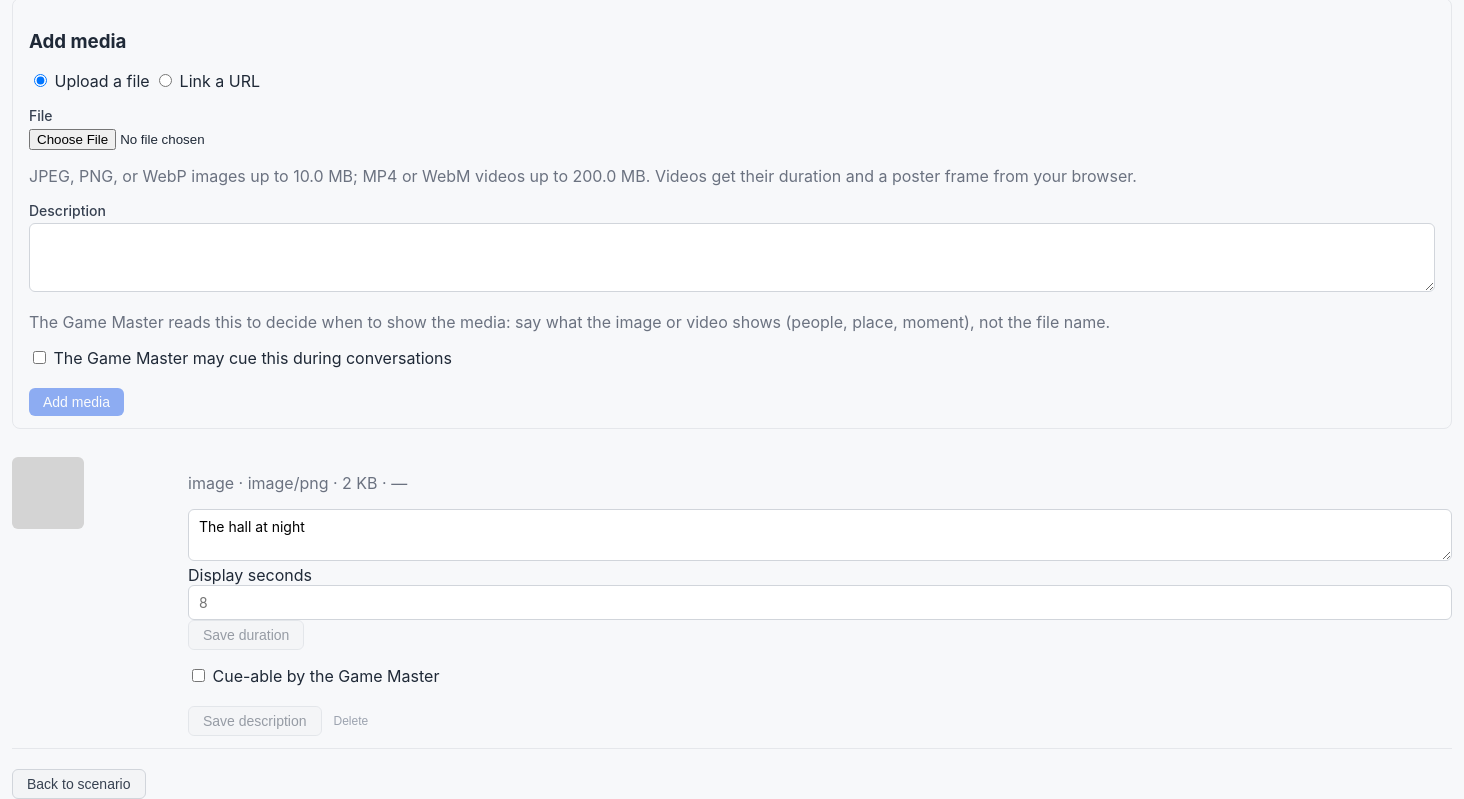
Test: media library › shows why a referenced asset cannot be deleted
This screenshot has width=1464, height=799.
(page scrolled)
Check: the list item with aria-label "The hall at night" is shown, box [12,445,1452,749]
Click the button "Delete" at (351, 721), box [330,706,372,736]
(page scrolled)
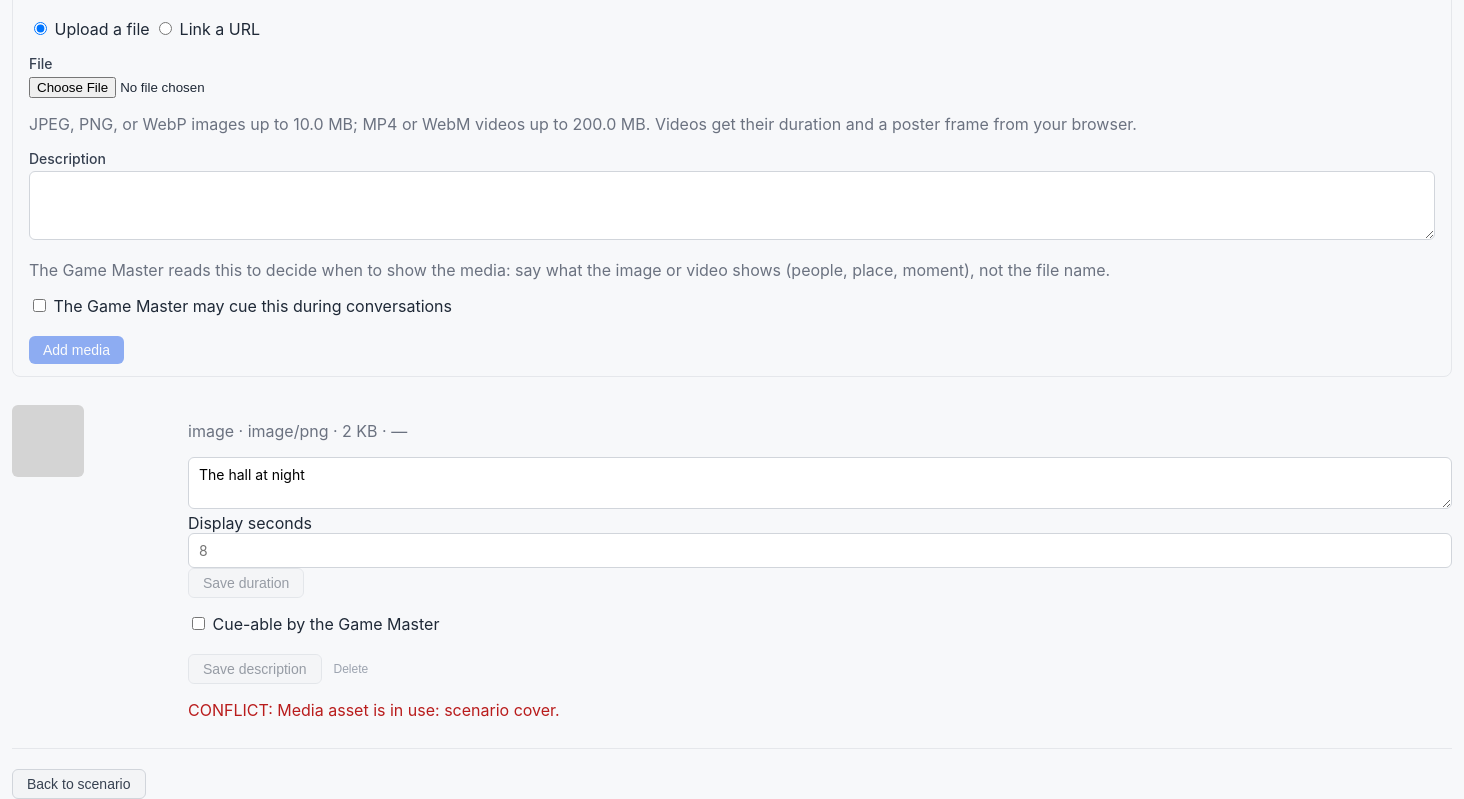
Check: the list item with aria-label "The hall at night" is shown, box [12,393,1452,749]
Check: the text "CONFLICT: Media asset is in use: scenario cover." is shown, box [188,700,560,720]
